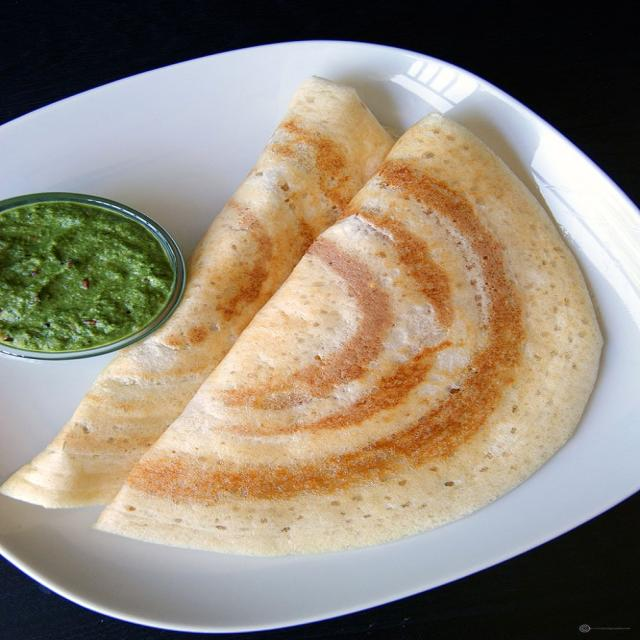Wet Waste: (91, 110, 597, 559), (0, 78, 407, 520), (0, 190, 182, 356)
